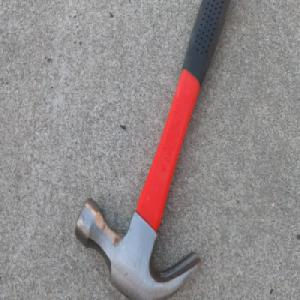Hammer: (74, 0, 233, 300)
